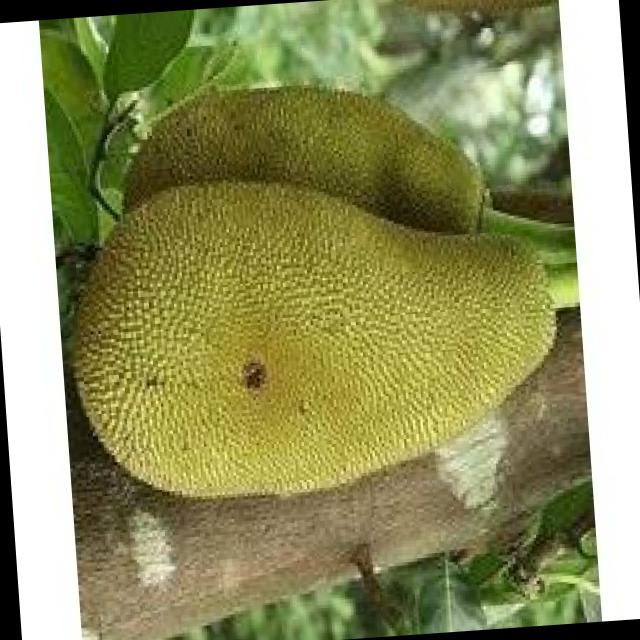Fruit: (51, 133, 466, 528), (104, 52, 504, 260)
